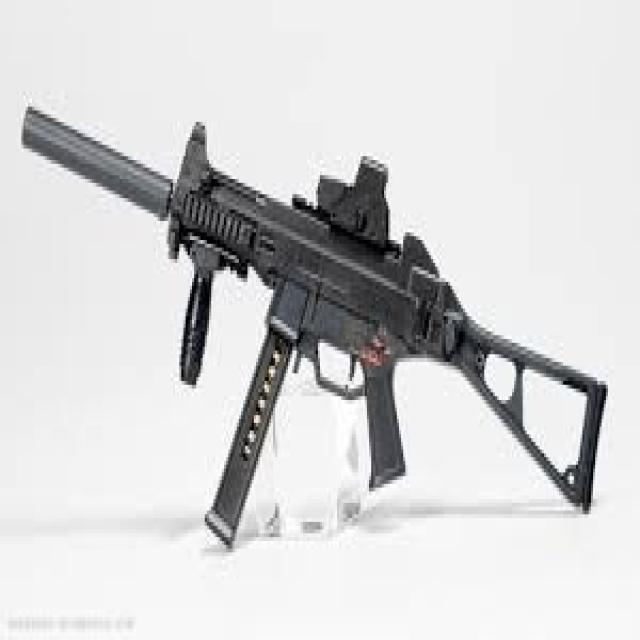Gun: (21, 82, 612, 540)
